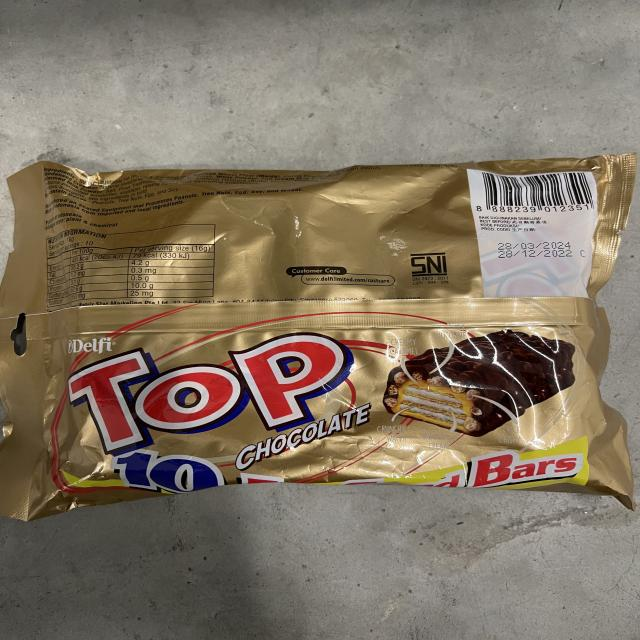object_name: (15, 162, 616, 492)
